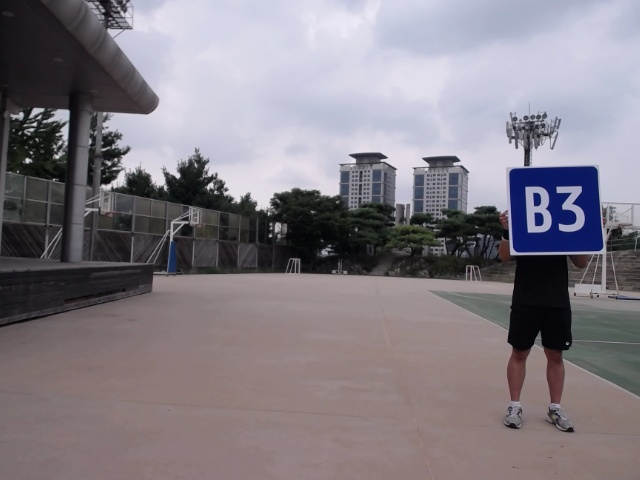delivery_b3: (501, 167, 609, 258)
